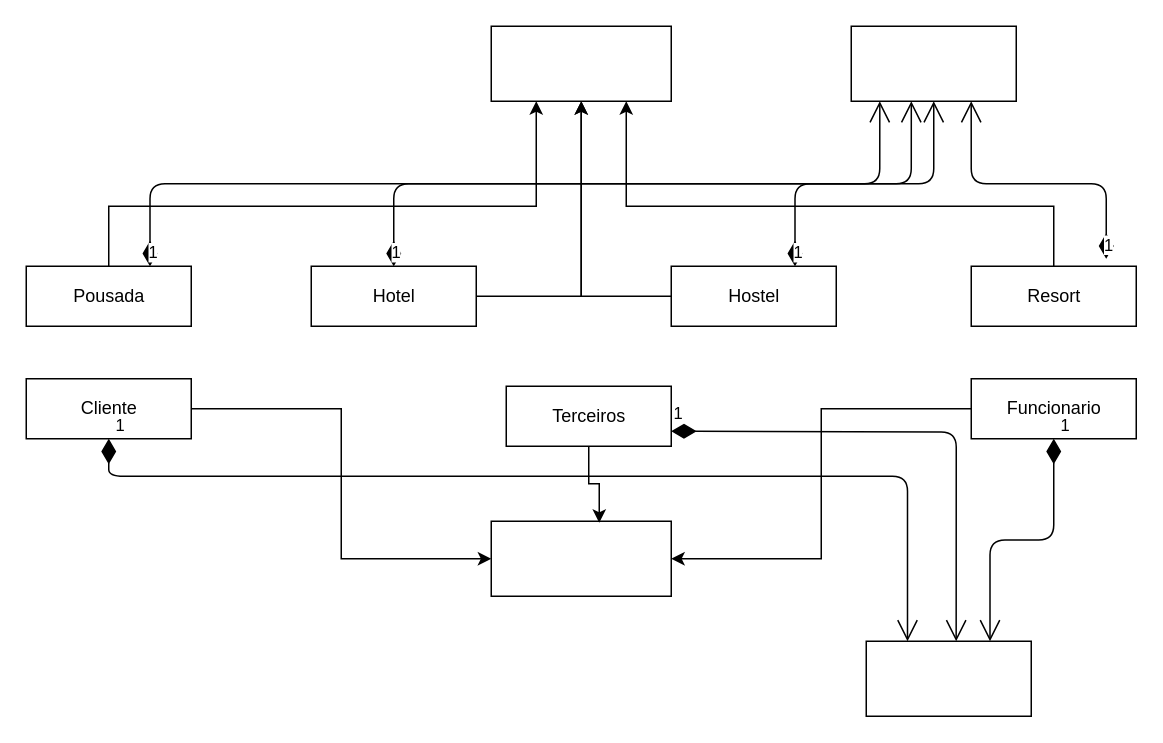
Some shapes in this 1163 by 743 pixel diagram are drawn without their labels. Here are the shapes that lost their labels. From the top down, the centre of each, then its label:
(x=580, y=63): «interface» Hospedagem
(x=933, y=63): Hospeda
(x=580, y=558): «interface» Pessoas
(x=948, y=678): CadPessoa
